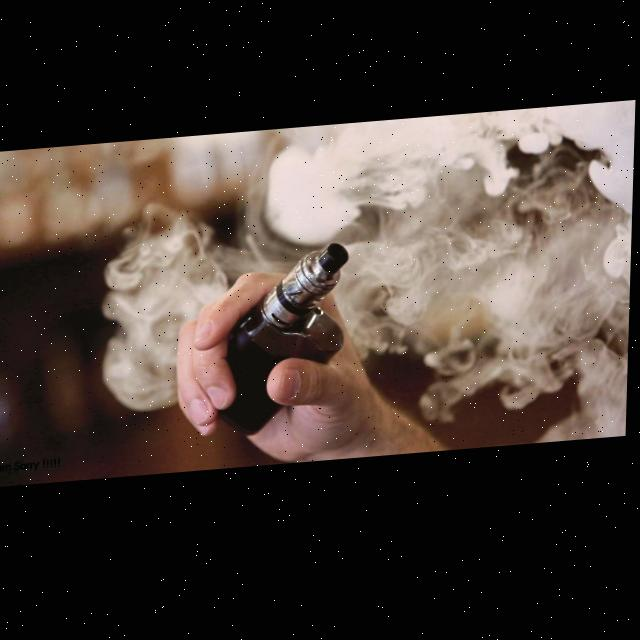vape: (217, 246, 352, 444)
